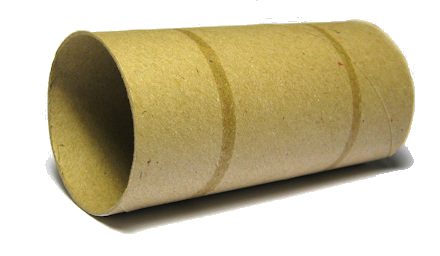Rec_Paper: (40, 6, 416, 221)
